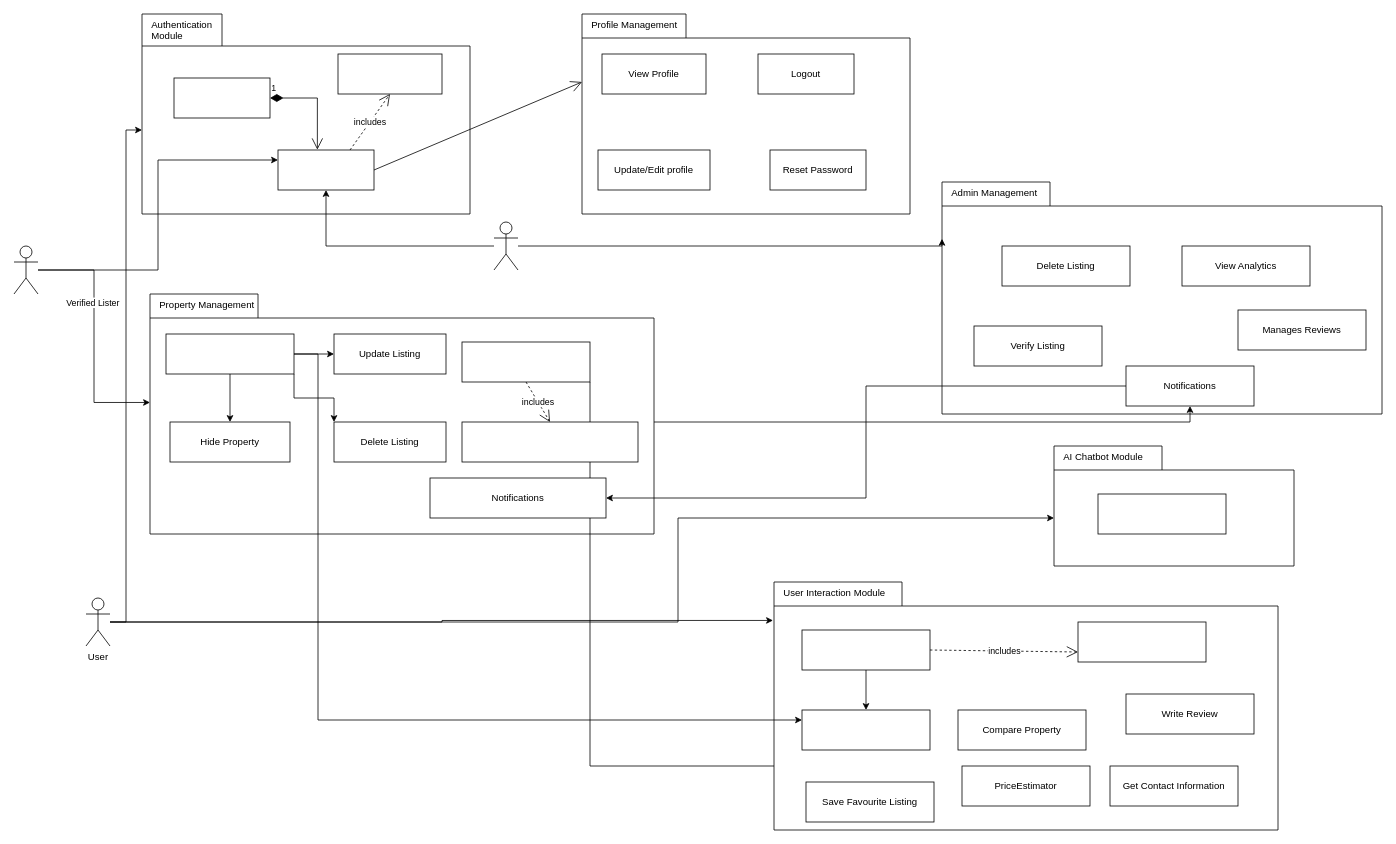
Image size: 1396x844. Some labels were removed from this diagram. Each missing label, with the centre of its shape:
"Add new Listing" belongs at (x=525, y=361).
"Admin" belongs at (x=505, y=245).
"Apply Filters" belongs at (x=1141, y=641).
"Lister" belongs at (x=25, y=269).
"Login" belongs at (x=325, y=169).
"Manage Listing" belongs at (x=229, y=353).
"Resolve Admin Queries" belongs at (x=1161, y=513).
"Search Property" belongs at (x=865, y=649).
"Sign Up" belongs at (x=221, y=97).
"Upload Images Cloudinary" belongs at (x=549, y=441).
"Via Gmail(verification)" belongs at (x=389, y=73).
"View Property" belongs at (x=865, y=729).
